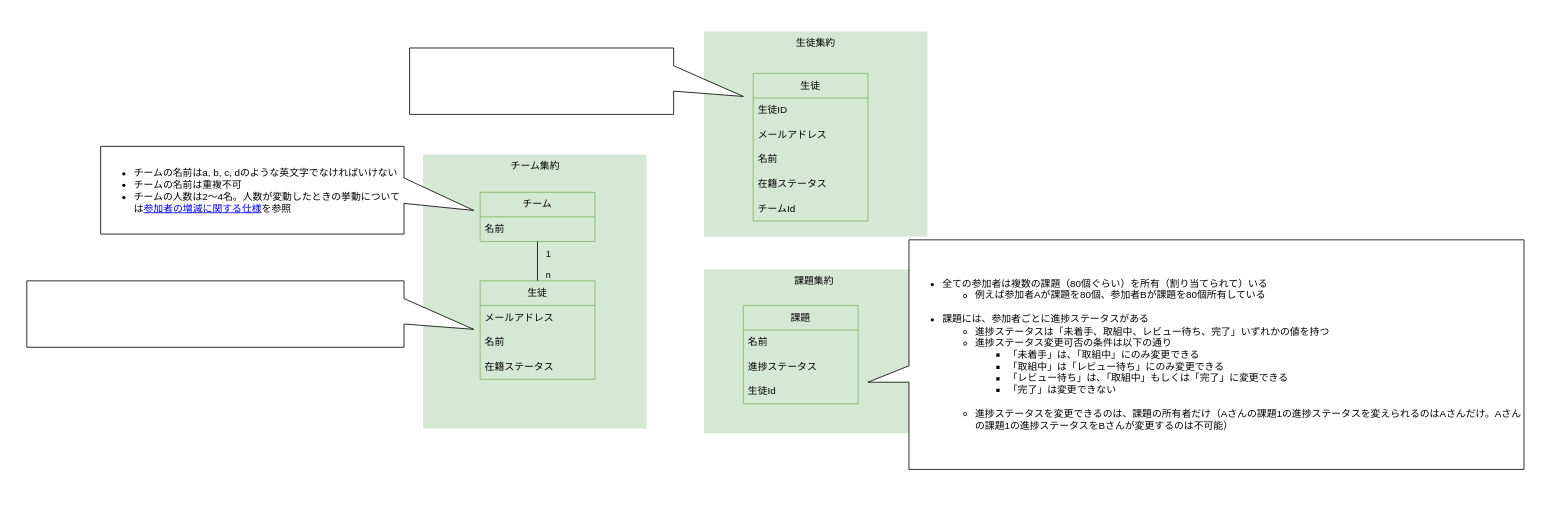
Image size: 1556x517. Some labels were removed from this diagram. Here are the shapes that lost their labels. From the top down, the centre of each, then its label:
(x=576, y=80): メールアドレスの重複は許容されない 在籍ステータスは「在籍中」「休会中」「退会済」の3つ
(x=250, y=313): ステータスが「在籍中」ではない場合、どのチームにも所属してはいけない
